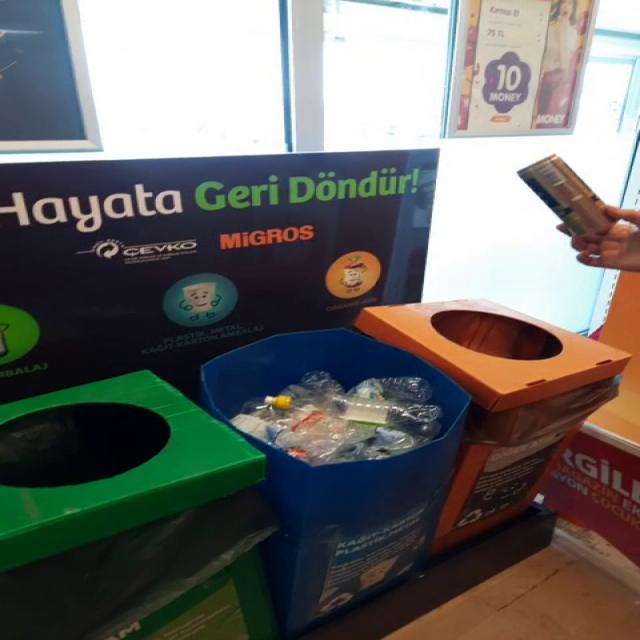bin: (201, 300, 632, 638)
metal: (519, 155, 616, 235)
